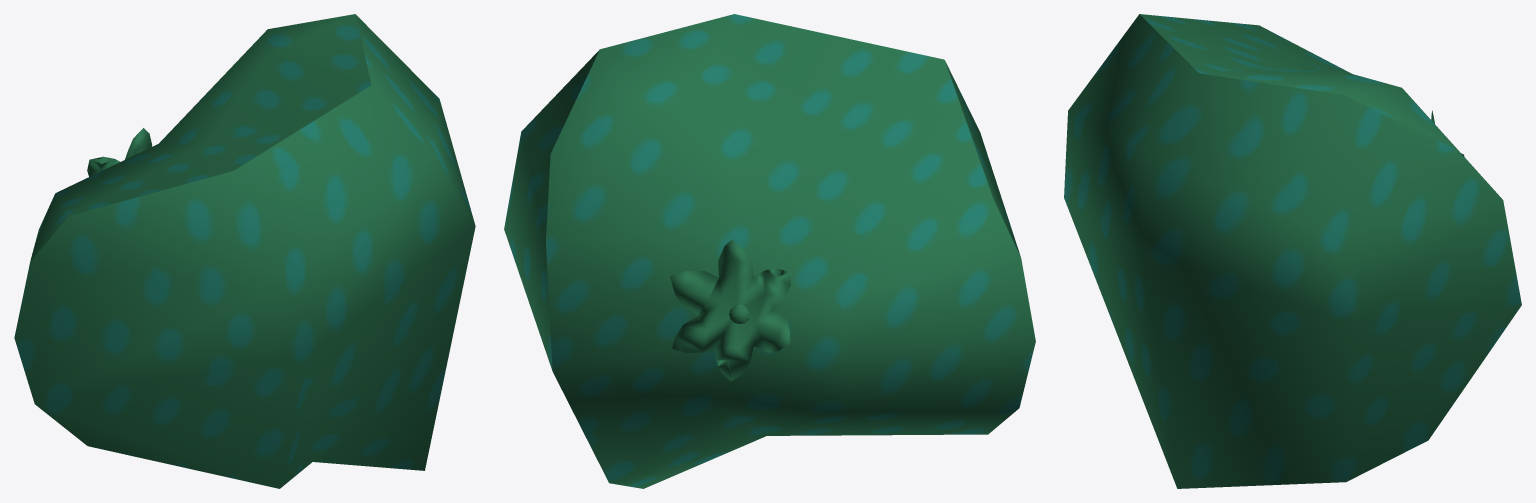
Rendered from Copa2_EXP.fbx.
3 views of the same model, side by side, from view 1: azimuth 30°, elevation 25°; view 2: azimuth 150°, elevation 25°; view 3: azimuth 270°, elevation 25° (orthographic). The views are drawn at different scales.
Visible parts, largest first — view 1: Copa_2EXP; view 2: Copa_2EXP; view 3: Copa_2EXP.
Part boxes in pixels (bbox=[...]): Copa_2EXP: bbox=[14, 14, 475, 488]; Copa_2EXP: bbox=[504, 14, 1035, 488]; Copa_2EXP: bbox=[1064, 14, 1521, 488].
Size of the model in its own units: 52.42 by 43.89 by 44.65.
Materials: 1 (1 with a texture image).
